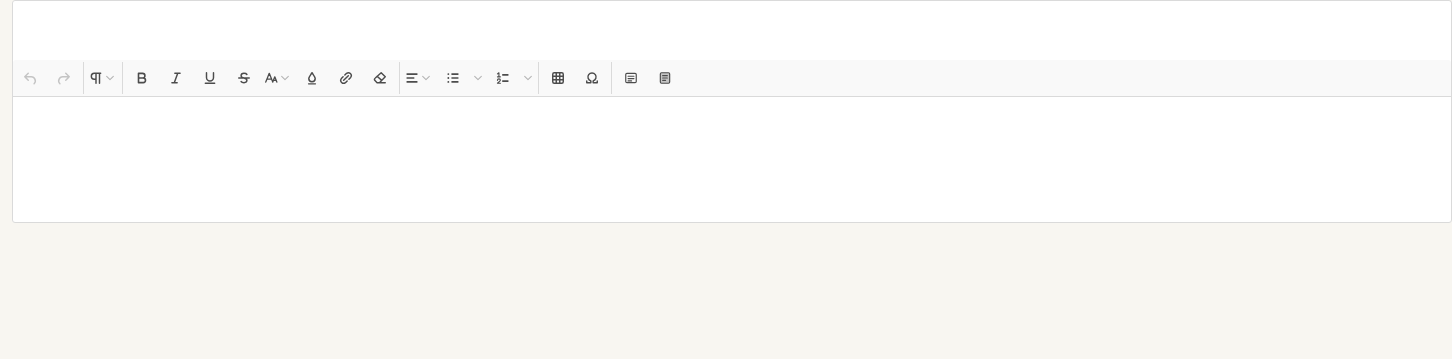
Test: fourth review fixes › 18: closing a menu with its own button gives focus back to the text
Click the button named "Abzats formati".
click(103, 78)  # box [86, 61, 120, 95]
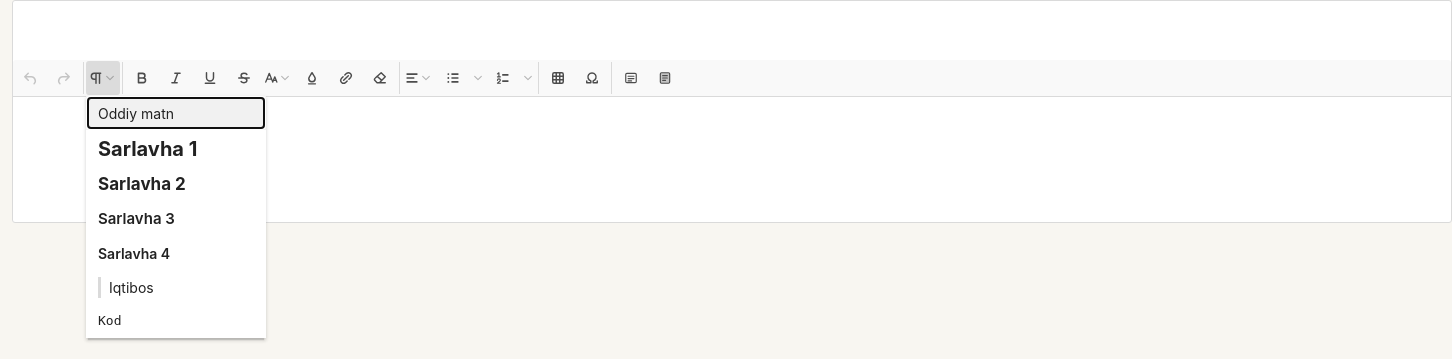
Click the button named "Abzats formati".
click(103, 78)  # box [86, 61, 120, 95]
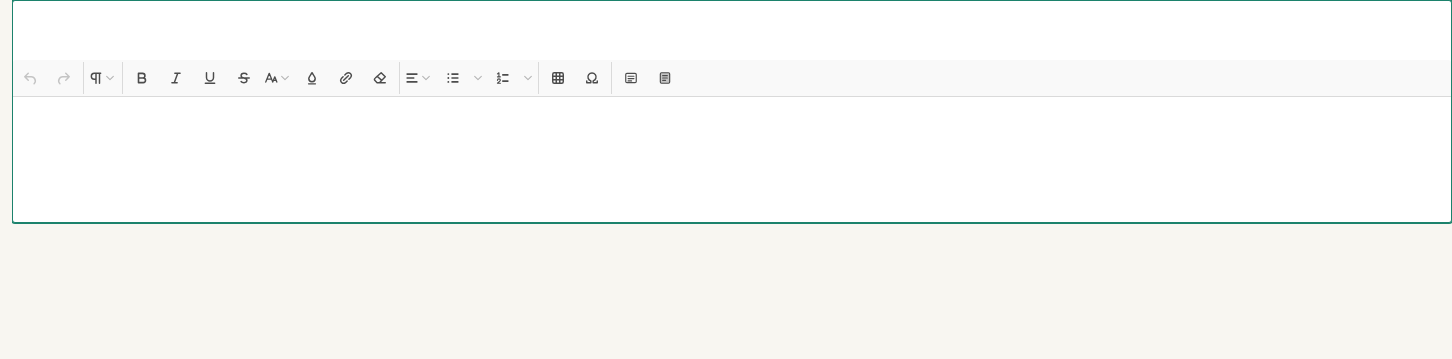
Expected: the menu is gone
